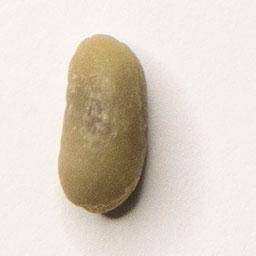longberry: (55, 30, 150, 217)
